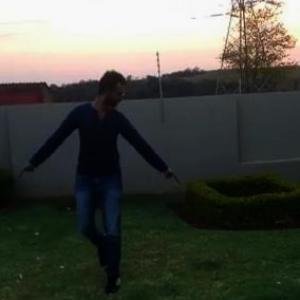land: (8, 66, 184, 294)
